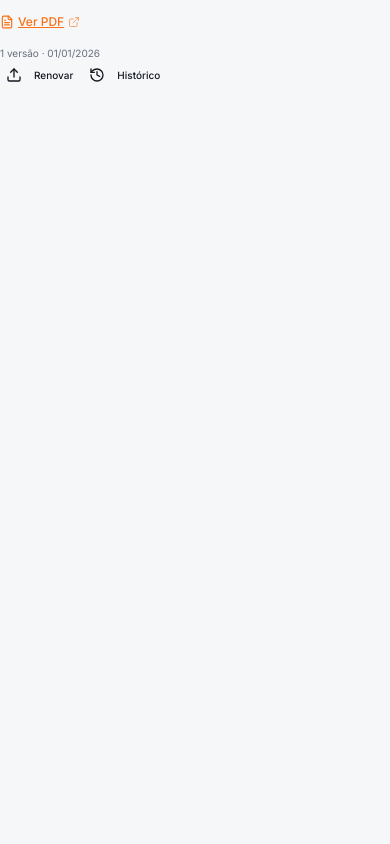
it: anexo por registro › o histórico diz de que exame é cada versão
The width and height of the screenshot is (390, 844).
Click the button "Histórico" at {"x": 125, "y": 75}, box 83,63 -> 166,87
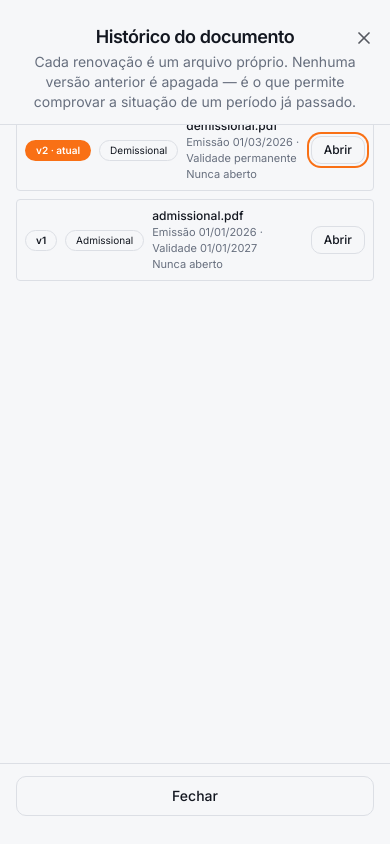
expect the text "Admissional" is shown: met, box 65,230 -> 144,250
expect the text "Demissional" is shown: met, box 99,140 -> 178,160
